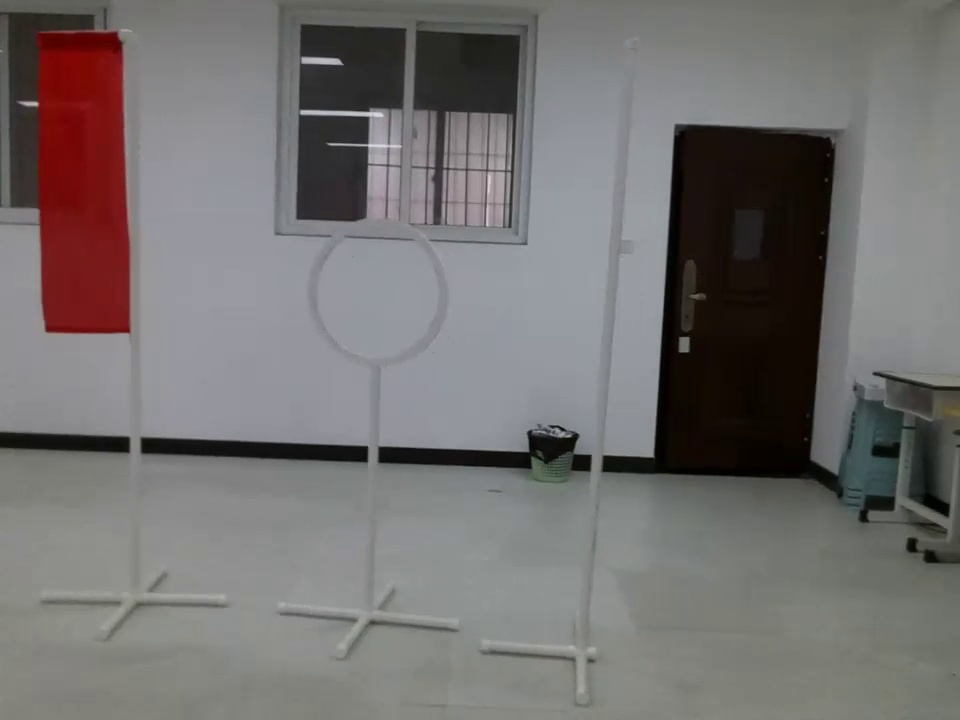gan: (576, 24, 646, 655)
qi: (27, 25, 144, 338)
quan: (303, 194, 453, 389)
